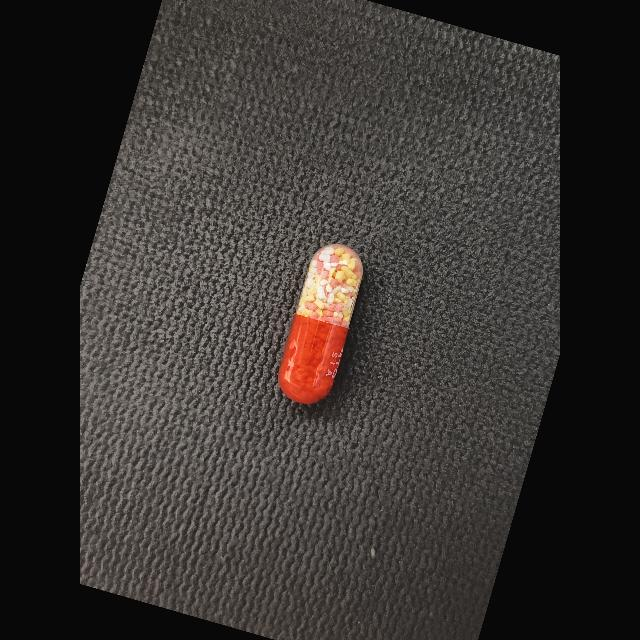Intact Capsule: (278, 244, 363, 404)
